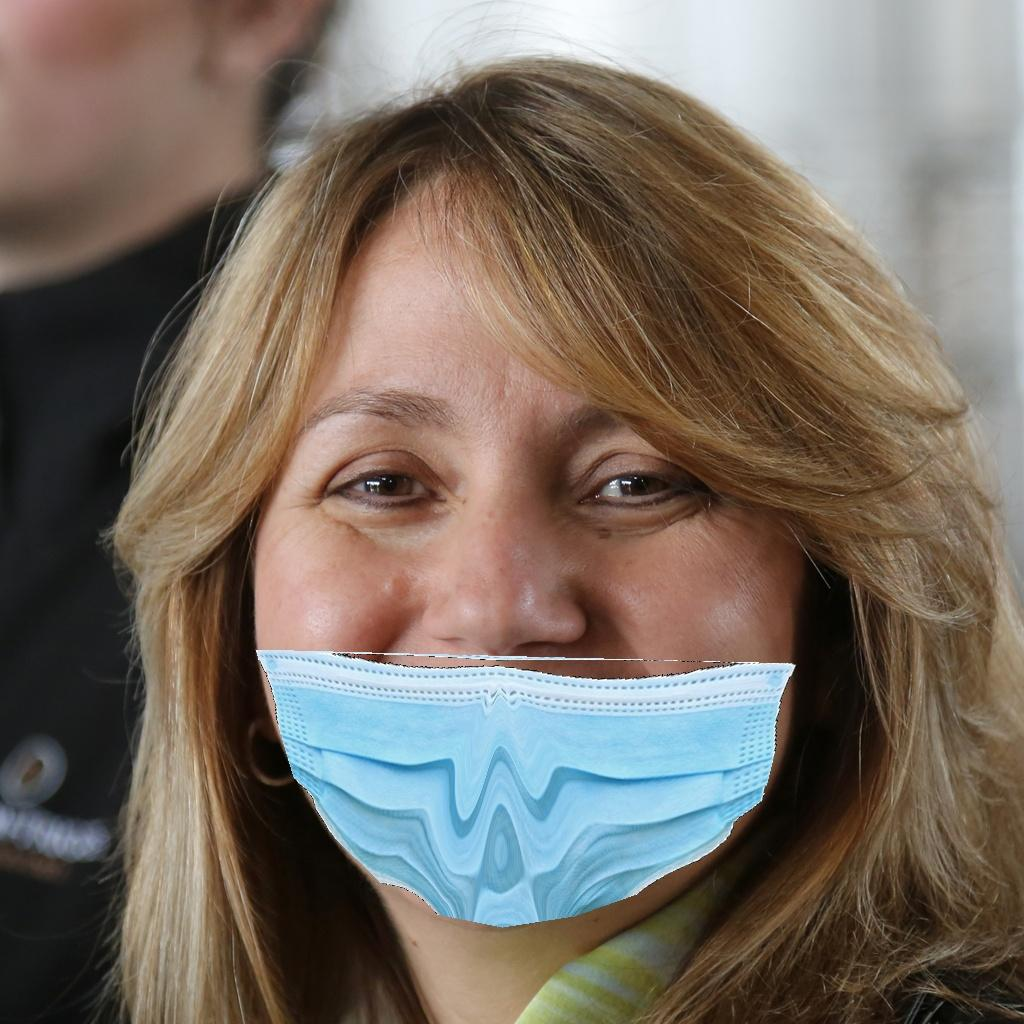Máscara Incorreta: (253, 338, 777, 891)
